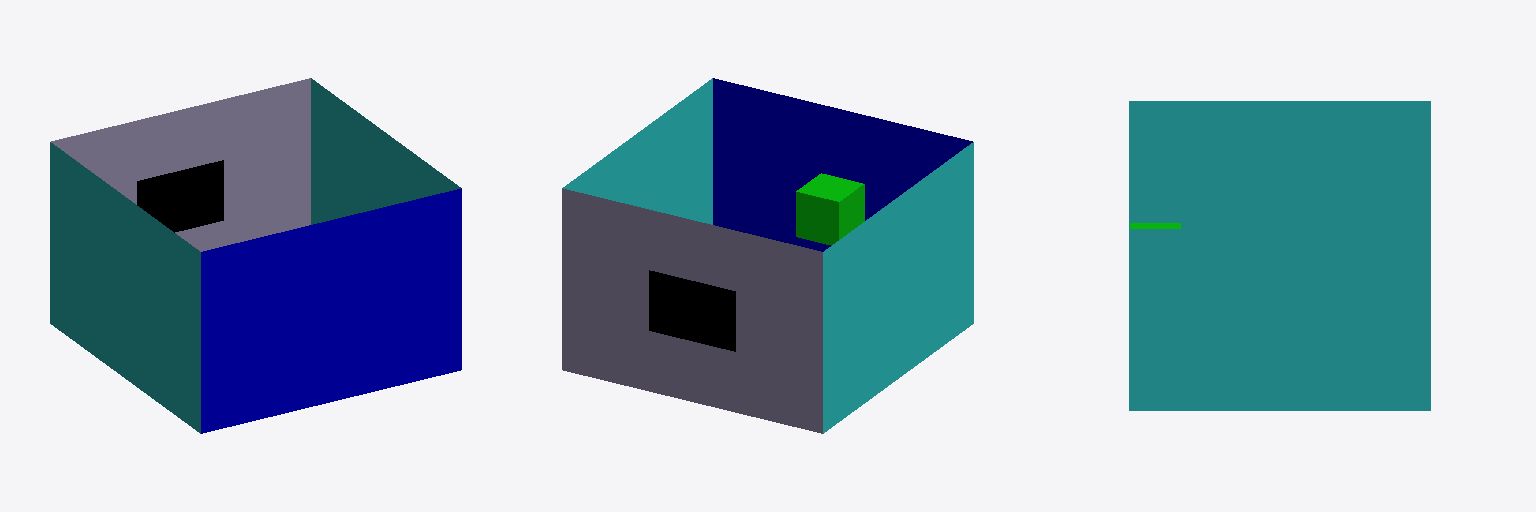
The model's file is cubescene.obj.
3 views of the same model, side by side, from view 1: azimuth 30°, elevation 25°; view 2: azimuth 150°, elevation 25°; view 3: azimuth 270°, elevation 25° (orthographic).
Parts seen in each view (by area): view 1: wall2, wall3, Grid.002, wall4; view 2: Grid.002, wall3, wall2, wall4, Cube_Cube.002; view 3: wall4, wall3.
Part boxes in pixels (bbox=[...]): wall2: bbox=[201, 188, 461, 433]; wall3: bbox=[50, 142, 200, 433]; Grid.002: bbox=[51, 78, 310, 251]; wall4: bbox=[311, 78, 460, 224]; Grid.002: bbox=[562, 188, 822, 433]; wall3: bbox=[823, 142, 973, 433]; wall2: bbox=[713, 78, 972, 251]; wall4: bbox=[563, 78, 712, 224]; Cube_Cube.002: bbox=[796, 173, 864, 245]; wall4: bbox=[1129, 229, 1430, 410]; wall3: bbox=[1129, 101, 1430, 228].
Size of the model in its own units: 3 by 2 by 3.